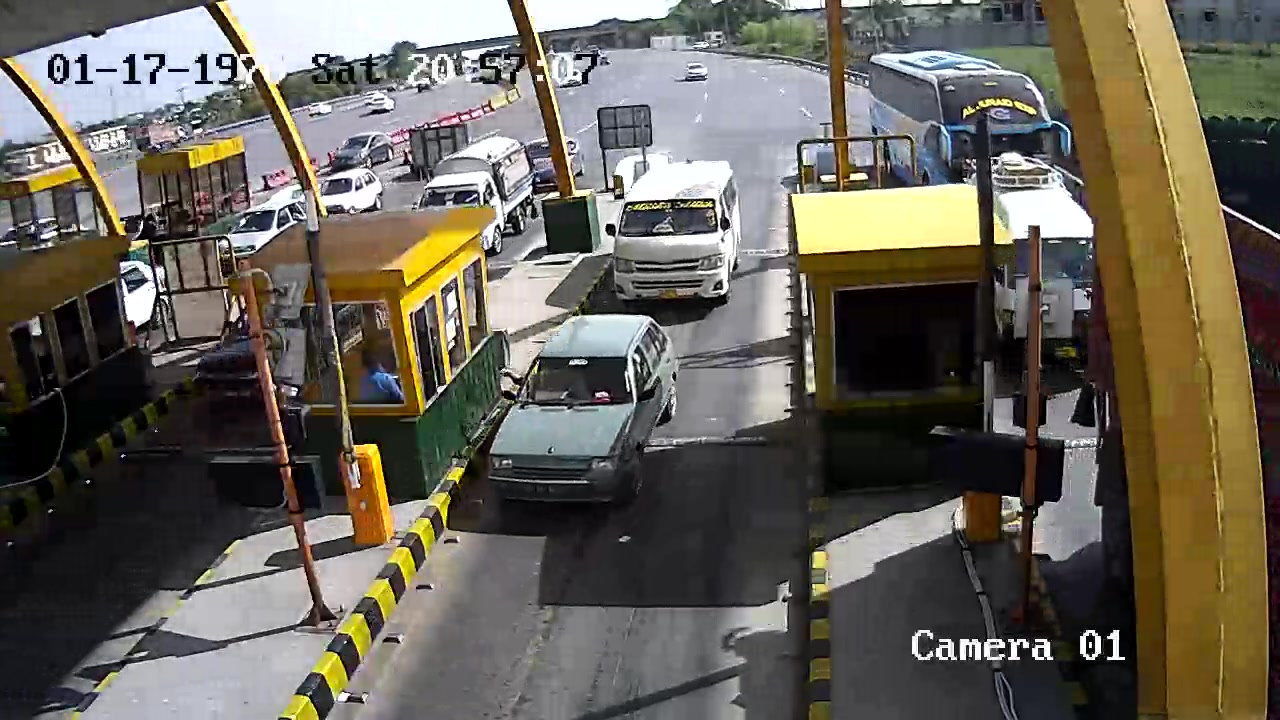F1: (488, 312, 693, 538)
F3: (599, 156, 753, 308)
